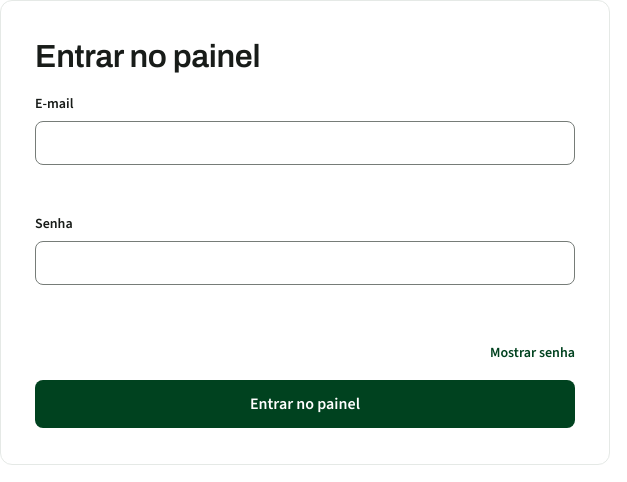
LoginForm — validação acessível ADM-01 › identifica apenas a senha ausente
Type "operador@example.invalid" into the field labelled "E-mail" at (305, 143), box [35,121,575,165]
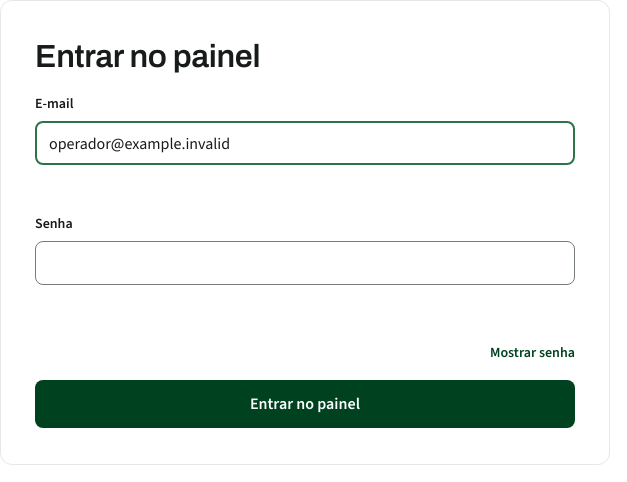
Click the button "Entrar no painel" at (305, 404), box [35,380,575,428]
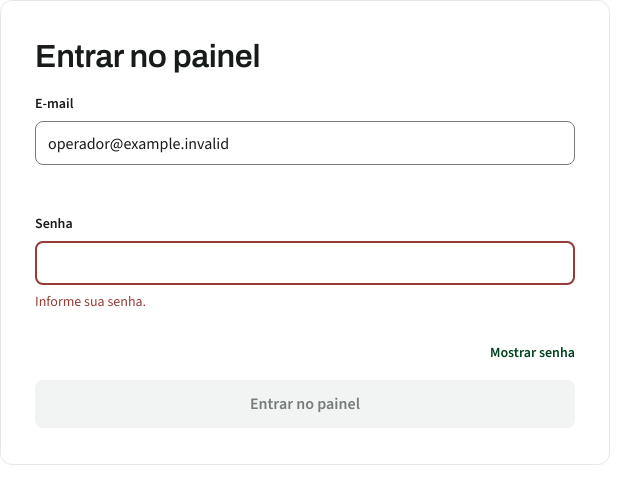
Result: the text "Informe sua senha." is shown at [35,292,146,311]
